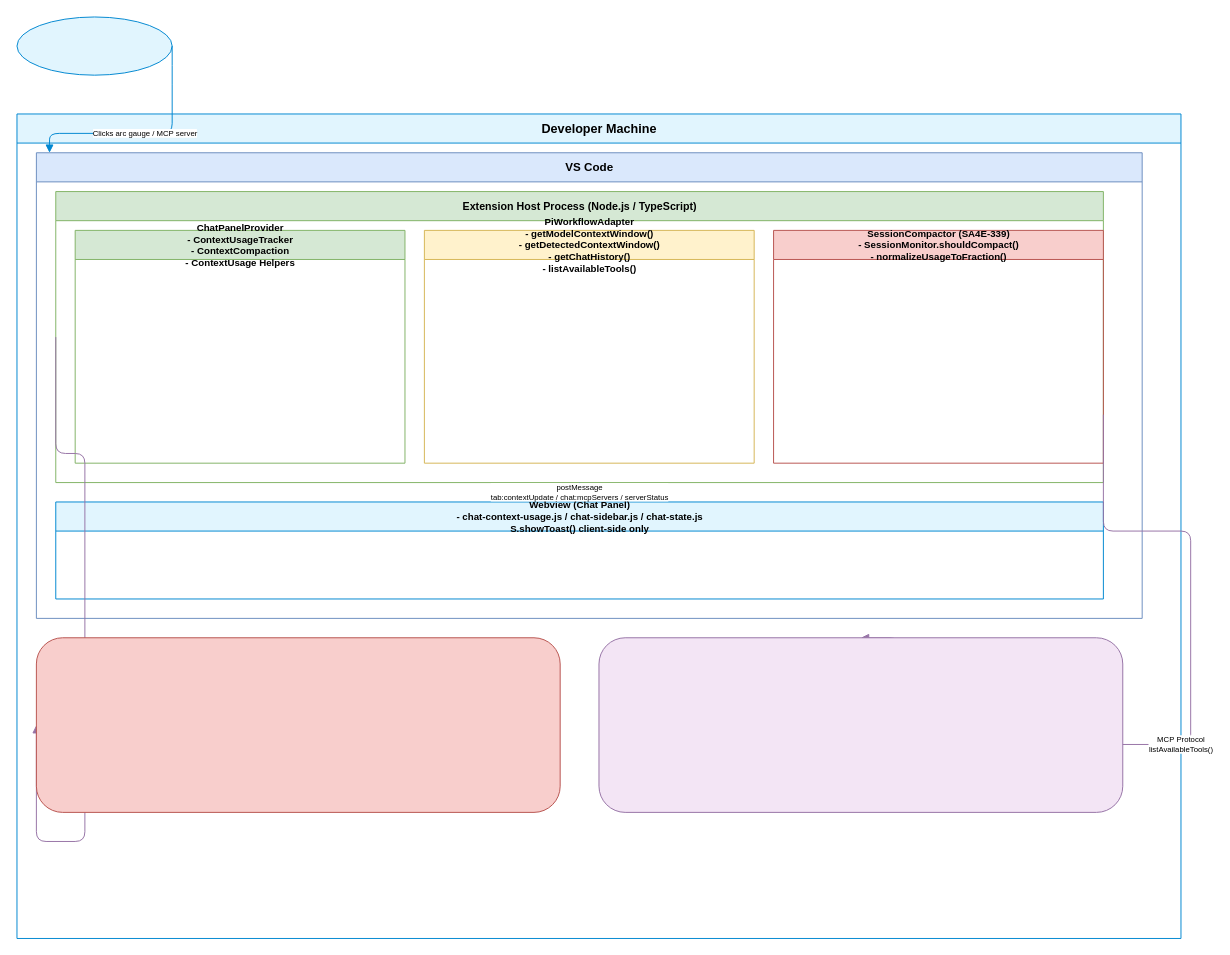
The diagram is 1230 pixels wide and 955 high, and some of its shapes have lost their labels. Here are the shapes that lost their labels. From the top down, the box of each, then its label:
(16, 16, 172, 75): Developer (User)
(35, 637, 560, 812): llama-server / LLM Gateway (External Process) Exposes context window via -c flag
(598, 637, 1123, 812): MCP Servers (code-intel, filesystem, ...) Connection status via MCP Bridge
